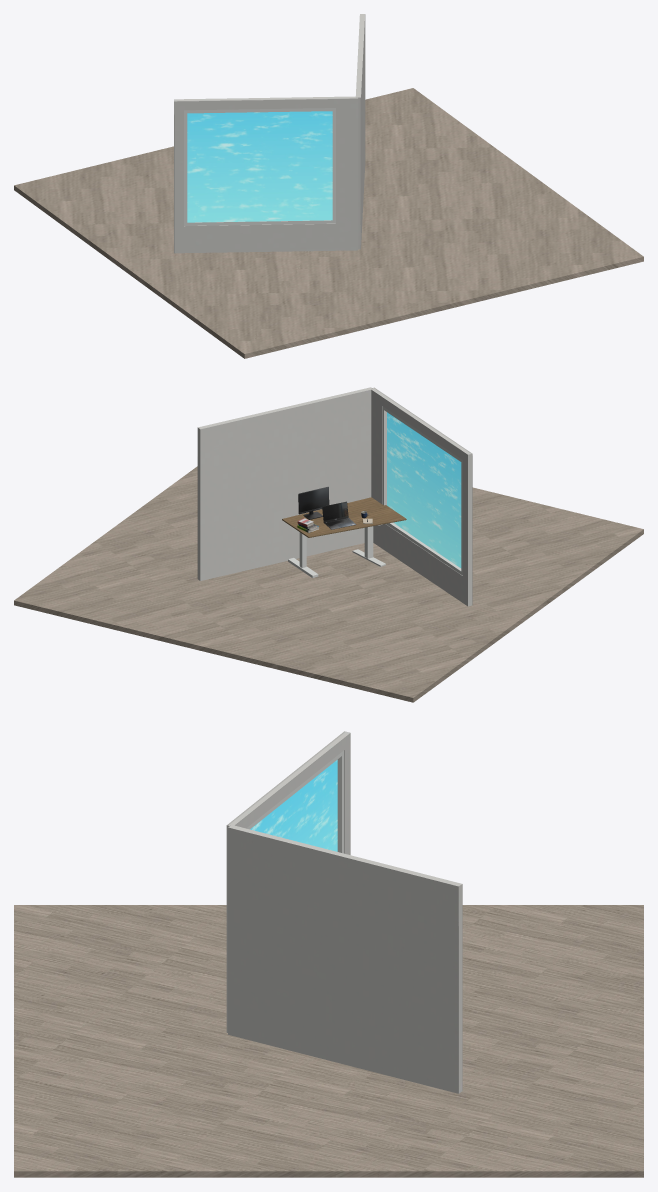
Rendered from desk.glb.
The picture shows the model from 3 angles, top to bottom: view 1: azimuth 30°, elevation 25°; view 2: azimuth 150°, elevation 25°; view 3: azimuth 270°, elevation 25°; orthographic projection. The views are drawn at different scales.
Visible parts, largest first — view 1: floor_0, wall_1_glazing, wall_1, wall_0, wall_1_sill, wall_1_head; view 2: floor_0, wall_0, wall_1_glazing, wall_1, desk_0, obj_monitor_0, obj_laptop_0, wall_1_sill, wall_1_jamb_left; view 3: floor_0, wall_0, wall_1_glazing, wall_1, wall_1_jamb_right.
Boxes of the visible parts, x1,y1,x2,y2 form: floor_0: [14, 88, 643, 358]; wall_1_glazing: [187, 111, 332, 222]; wall_1: [174, 96, 358, 253]; wall_0: [355, 14, 365, 249]; wall_1_sill: [187, 220, 332, 225]; wall_1_head: [187, 108, 332, 113]; floor_0: [14, 466, 643, 702]; wall_0: [197, 387, 373, 580]; wall_1_glazing: [387, 412, 461, 568]; wall_1: [371, 387, 472, 606]; desk_0: [282, 497, 406, 577]; obj_monitor_0: [298, 486, 329, 519]; obj_laptop_0: [322, 501, 356, 529]; wall_1_sill: [386, 522, 461, 574]; wall_1_jamb_left: [382, 406, 386, 505]; floor_0: [14, 905, 643, 1177]; wall_0: [228, 825, 462, 1093]; wall_1_glazing: [250, 760, 337, 851]; wall_1: [226, 731, 350, 1032]; wall_1_jamb_right: [337, 750, 343, 853].
Bounding box in the file's own units: 7 × 2.62 × 7.
Materials: 19 (19 with a texture image).
